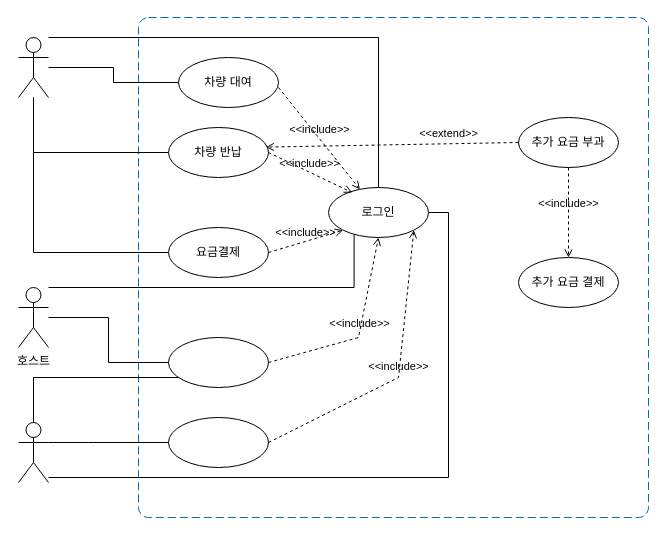
This 666x536 diagram has some shape labels left out. The centre of each missing label's shape, as x and y in pixels:
고객 등록: (x=218, y=442)
관리자: (x=33, y=452)
사용자: (x=33, y=67)
차량 등록: (x=218, y=362)
